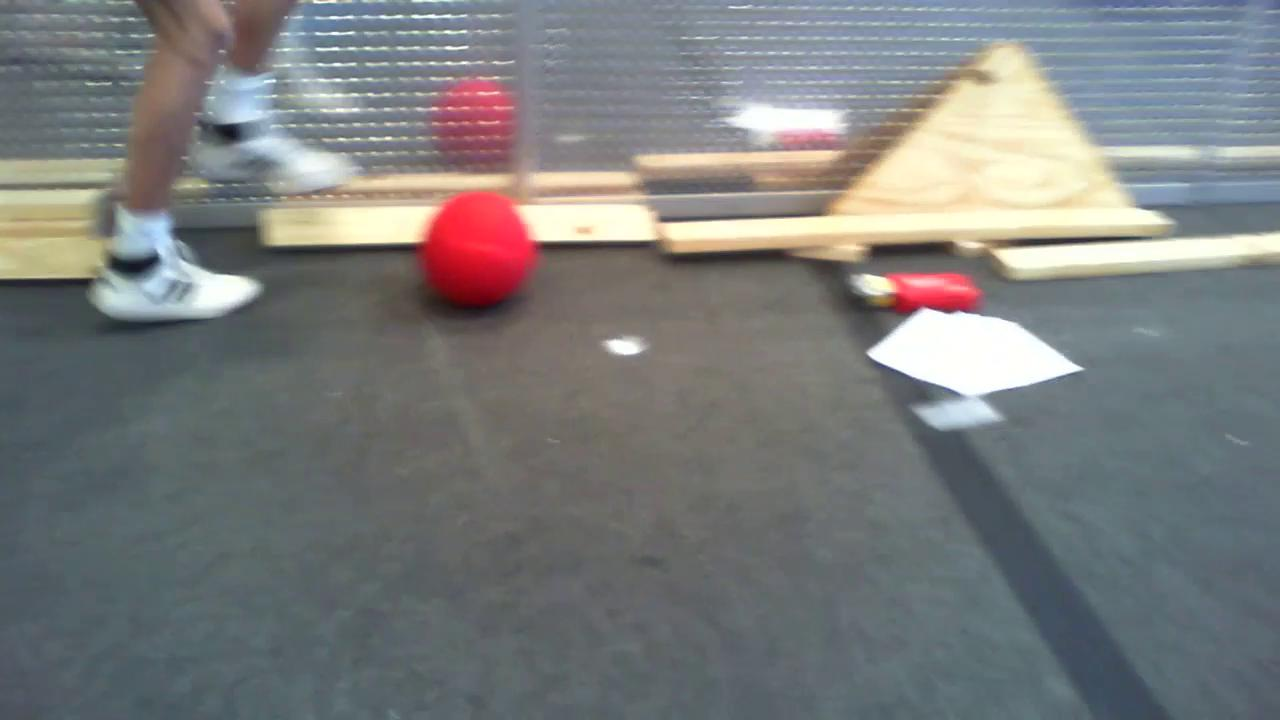Red_Ball: (408, 187, 544, 310), (435, 83, 525, 166)
